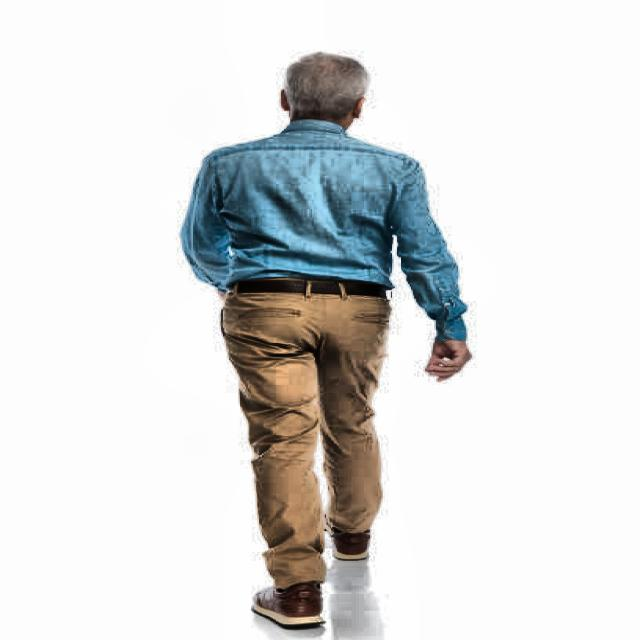Human: (155, 30, 500, 629)
